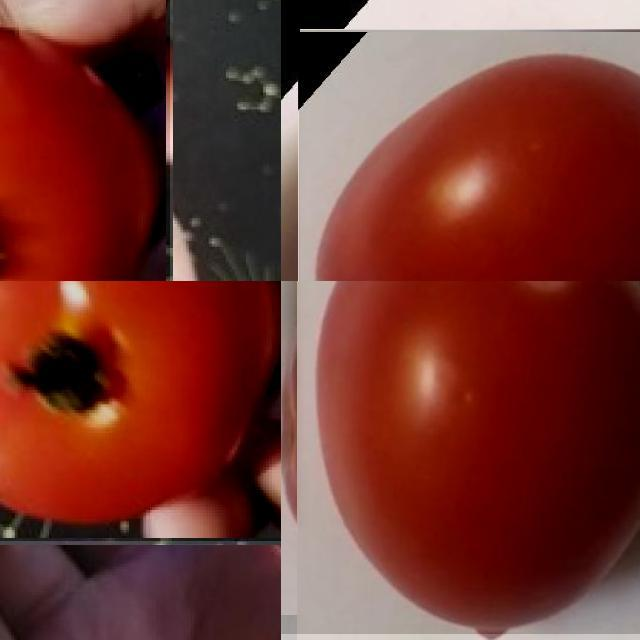Fresh Tomato: (281, 281, 640, 634), (298, 30, 640, 281), (0, 281, 281, 541), (0, 0, 169, 281)
